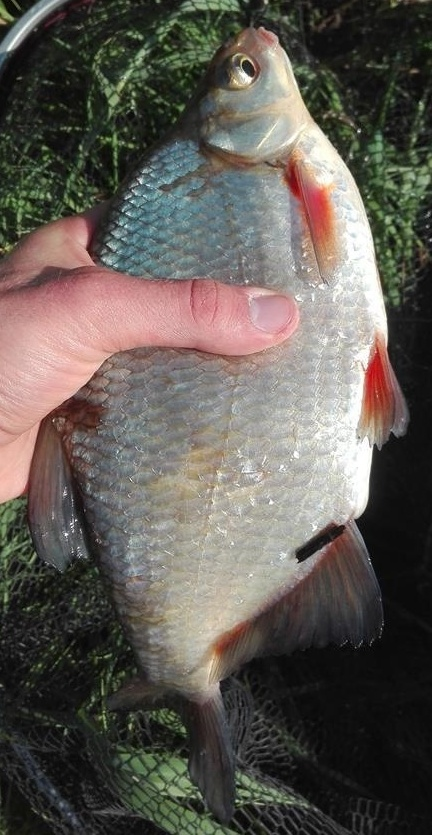Blicca bjoerkna: (20, 20, 412, 815)
